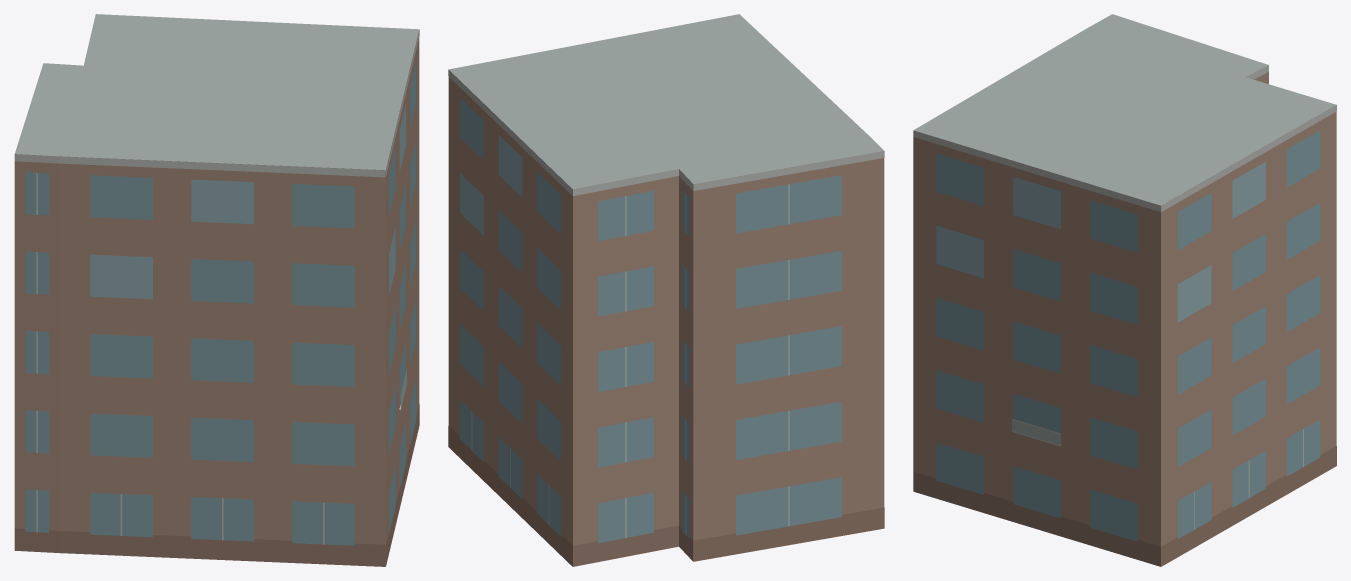
File: survey-upis-32836782.glb
3 views of the same model, side by side, from view 1: azimuth 30°, elevation 25°; view 2: azimuth 150°, elevation 25°; view 3: azimuth 270°, elevation 25° (orthographic). The views are drawn at different scales.
Visible parts, largest first — view 1: survey-upis-32836782.tmp; view 2: survey-upis-32836782.tmp; view 3: survey-upis-32836782.tmp.
Part boxes in pixels (x1=…): survey-upis-32836782.tmp: x1=14, y1=14, x2=419, y2=566; survey-upis-32836782.tmp: x1=448, y1=14, x2=884, y2=566; survey-upis-32836782.tmp: x1=913, y1=14, x2=1336, y2=566.
Bounding box in the file's own units: 15.26 × 13.4 × 14.25.
